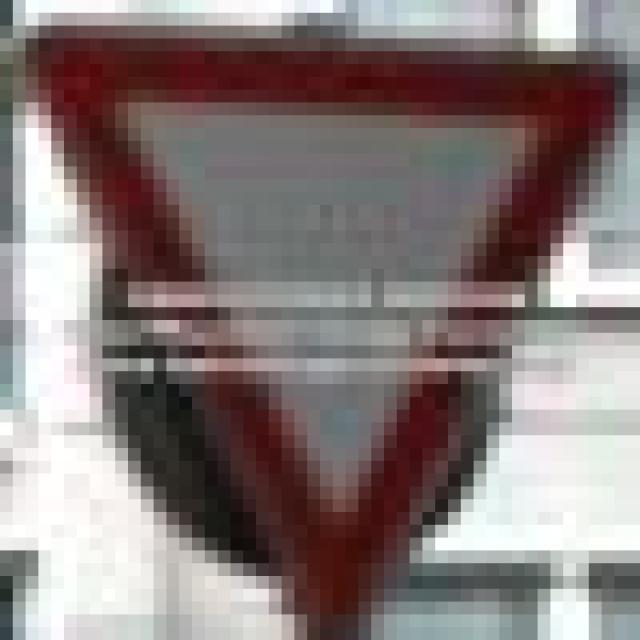gap_in_median: (13, 13, 627, 614)
